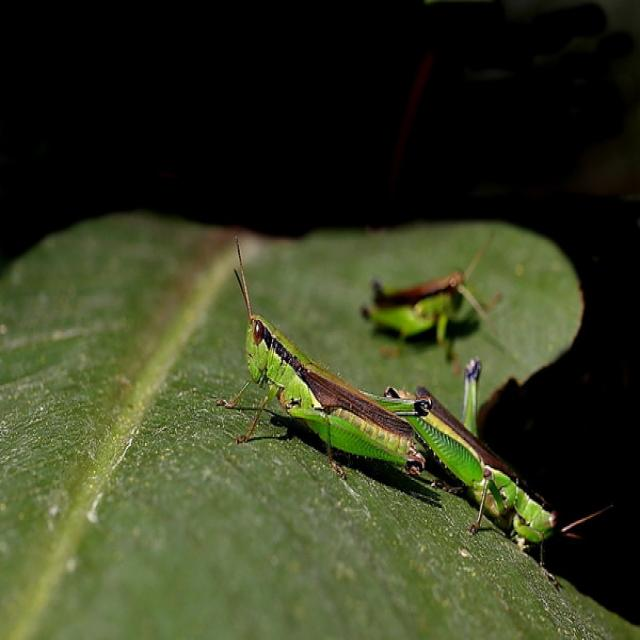ZhaMeng: (226, 258, 437, 484), (421, 384, 560, 566)
